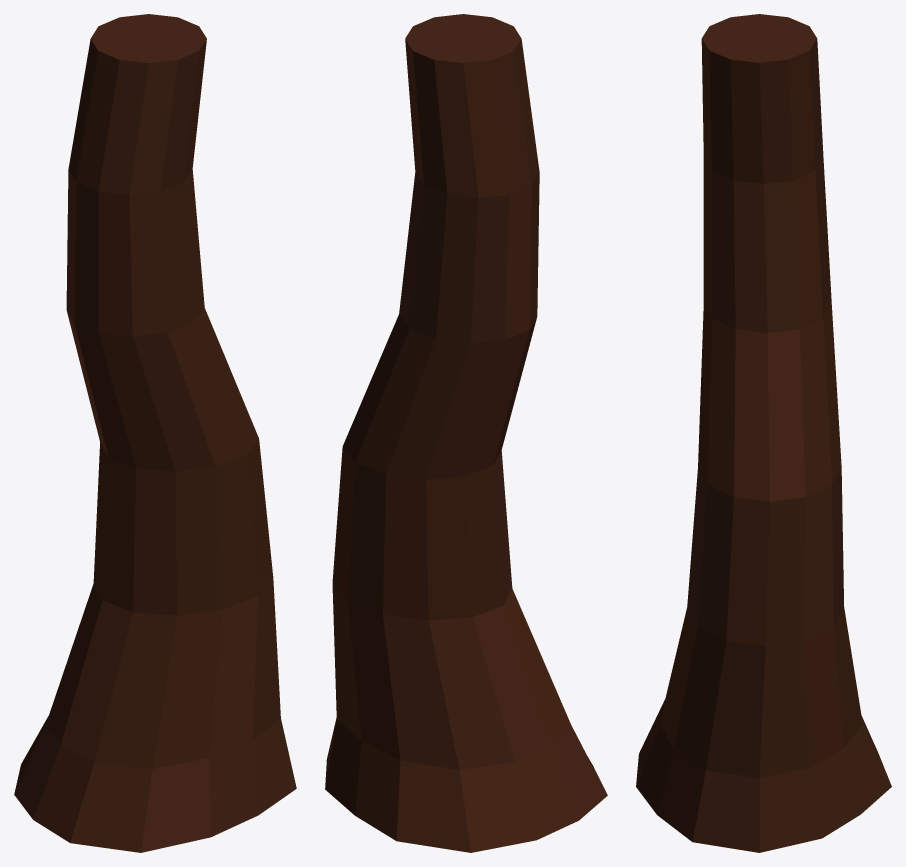
File: N02_Trunk.fbx
3 renders of one model, left to right at view 1: azimuth 30°, elevation 25°; view 2: azimuth 150°, elevation 25°; view 3: azimuth 270°, elevation 25°, orthographic.
Visible parts, largest first — view 1: N02_Trunk; view 2: N02_Trunk; view 3: N02_Trunk.
Part boxes in pixels (left/top/right/bottom): N02_Trunk: left=14, top=14, right=296, bottom=852; N02_Trunk: left=325, top=14, right=607, bottom=852; N02_Trunk: left=636, top=14, right=891, bottom=852.
Bounding box in the file's own units: 0.7 × 2 × 0.62.
Materials: 1 (1 with a texture image).
